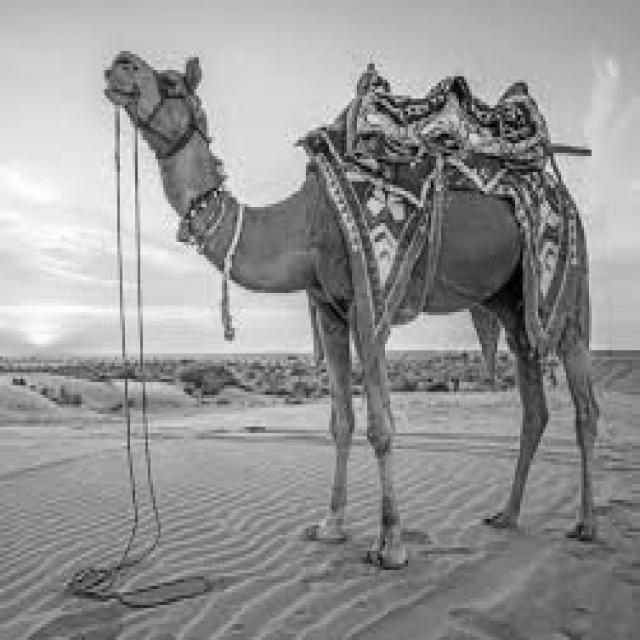Camel: (102, 48, 602, 567)
